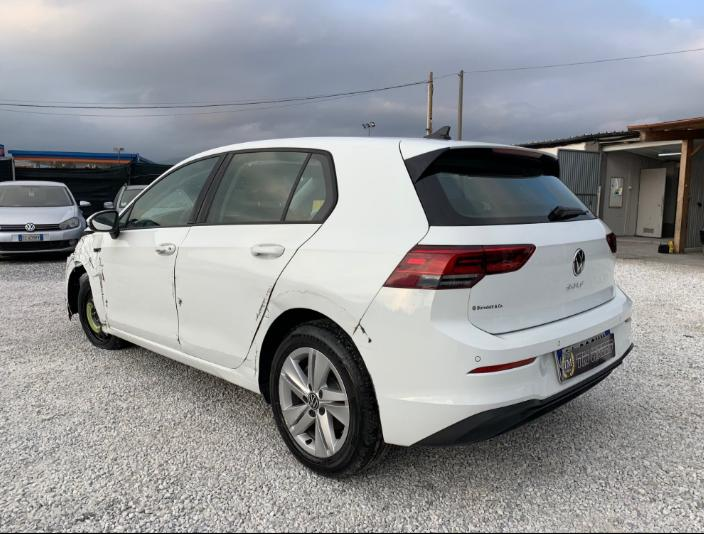Back-bumper: (351, 283, 633, 447)
Back-door: (174, 147, 338, 368)
Back-wheel: (270, 318, 394, 478)
Back-window: (207, 152, 333, 222)
Back-windshield: (416, 158, 596, 226)
Fender: (71, 231, 105, 324)
Front-bumper: (64, 254, 75, 322)
Front-door: (98, 152, 228, 351)
Front-wheel: (78, 277, 131, 349)
Front-window: (119, 157, 220, 227)
License-plate: (553, 330, 614, 381)
Mirror: (87, 210, 119, 239)
Quarter-panel: (237, 212, 428, 376)
Rocker-panel: (103, 326, 261, 394)
Roof: (171, 136, 424, 167)
Tail-light: (382, 244, 536, 289), (606, 232, 617, 253)
Trunk: (417, 217, 617, 334), (399, 139, 559, 184)
